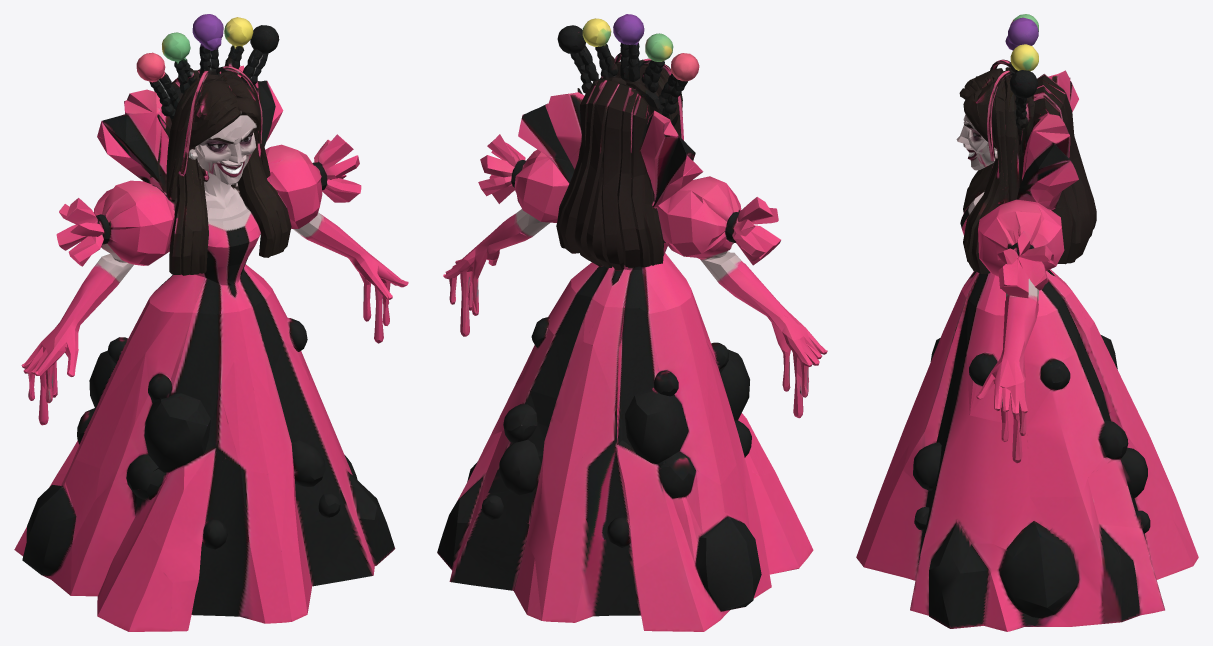
3 views of the same model, side by side, from view 1: azimuth 30°, elevation 25°; view 2: azimuth 150°, elevation 25°; view 3: azimuth 270°, elevation 25° (orthographic).
Bounding box in the file's own units: 1.37 × 1.9 × 1.09.
Materials: 1 (1 with a texture image).
